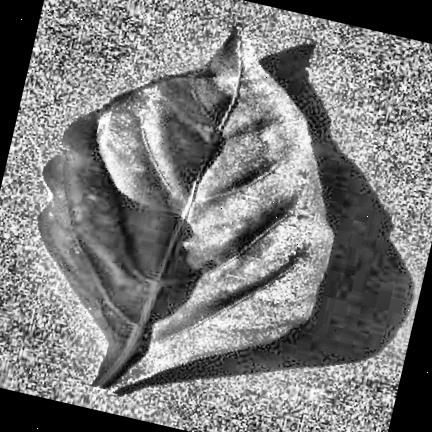leaf: (39, 27, 334, 391)
